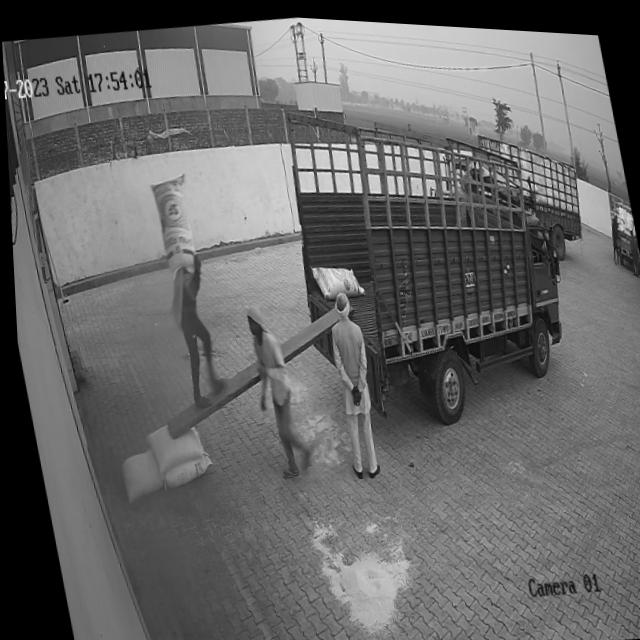sack: (146, 169, 201, 272), (139, 417, 202, 471), (112, 446, 160, 502), (307, 255, 364, 300), (155, 449, 212, 487)
